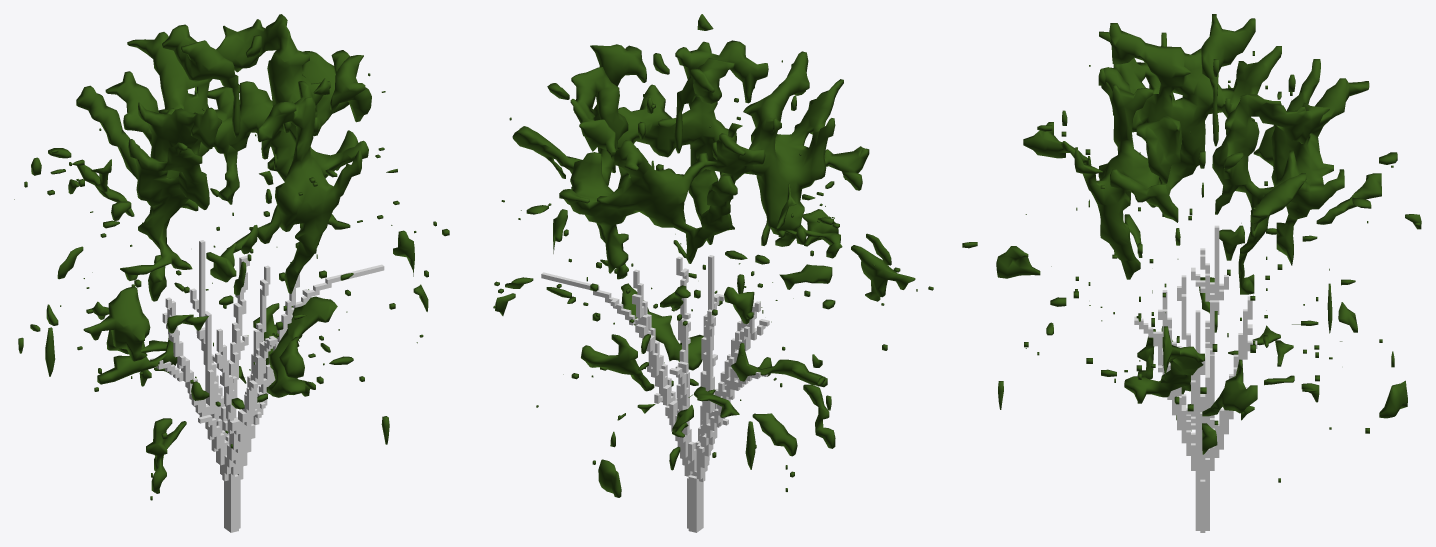
Rendered from Medium bush low resolution.fbx.
3 renders of one model, left to right at view 1: azimuth 30°, elevation 25°; view 2: azimuth 150°, elevation 25°; view 3: azimuth 270°, elevation 25°, orthographic. The views are drawn at different scales.
Parts seen in each view (by area): view 1: leaves.004, tree.004 done; view 2: leaves.004, tree.004 done; view 3: leaves.004, tree.004 done.
Boxes of the visible parts, bbox=[...] form: leaves.004: bbox=[14, 14, 449, 500]; tree.004 done: bbox=[150, 240, 384, 532]; leaves.004: bbox=[493, 14, 933, 497]; tree.004 done: bbox=[541, 255, 769, 532]; leaves.004: bbox=[962, 14, 1421, 482]; tree.004 done: bbox=[1134, 225, 1257, 532].
Bounding box in the file's own units: 801 × 952 × 798.
